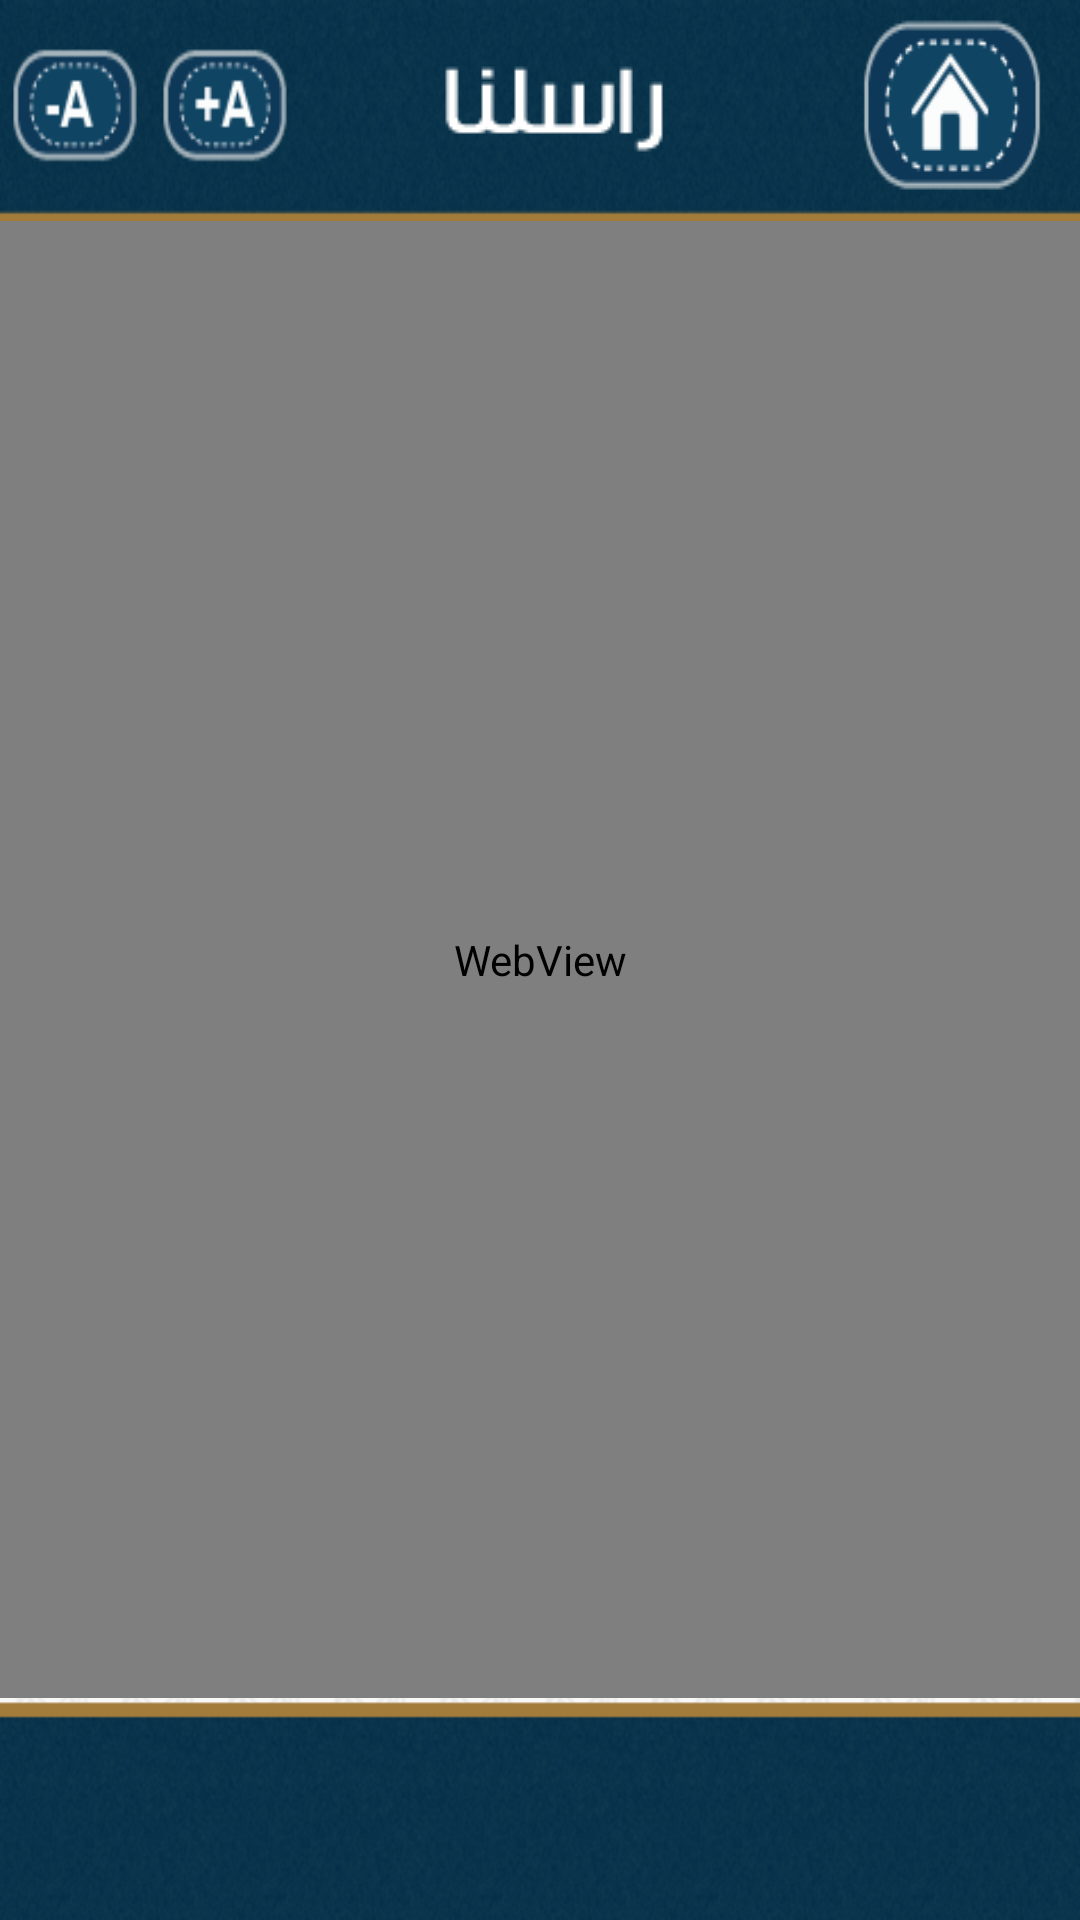

Icon bounding boxes for this 1080px×1920px phone screenshot, format (x1, y1, x2, y2):
home: (863, 20, 1041, 190)
